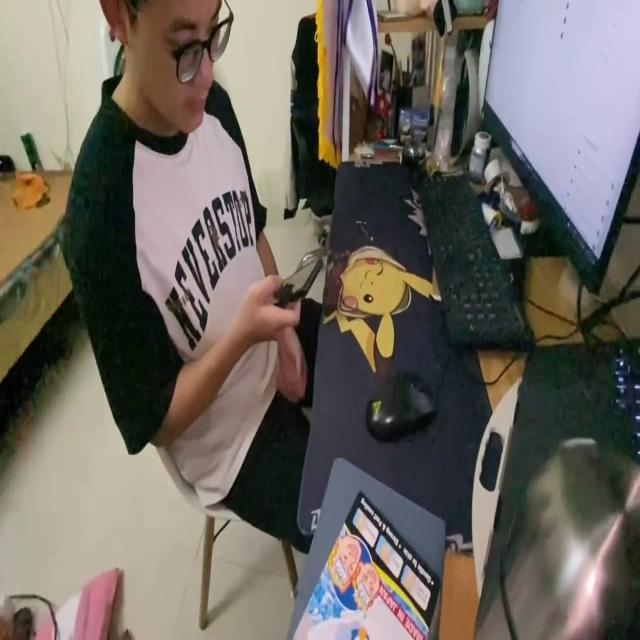laptop: (481, 0, 640, 308)
phone: (272, 245, 320, 308)
student: (59, 0, 320, 554)
